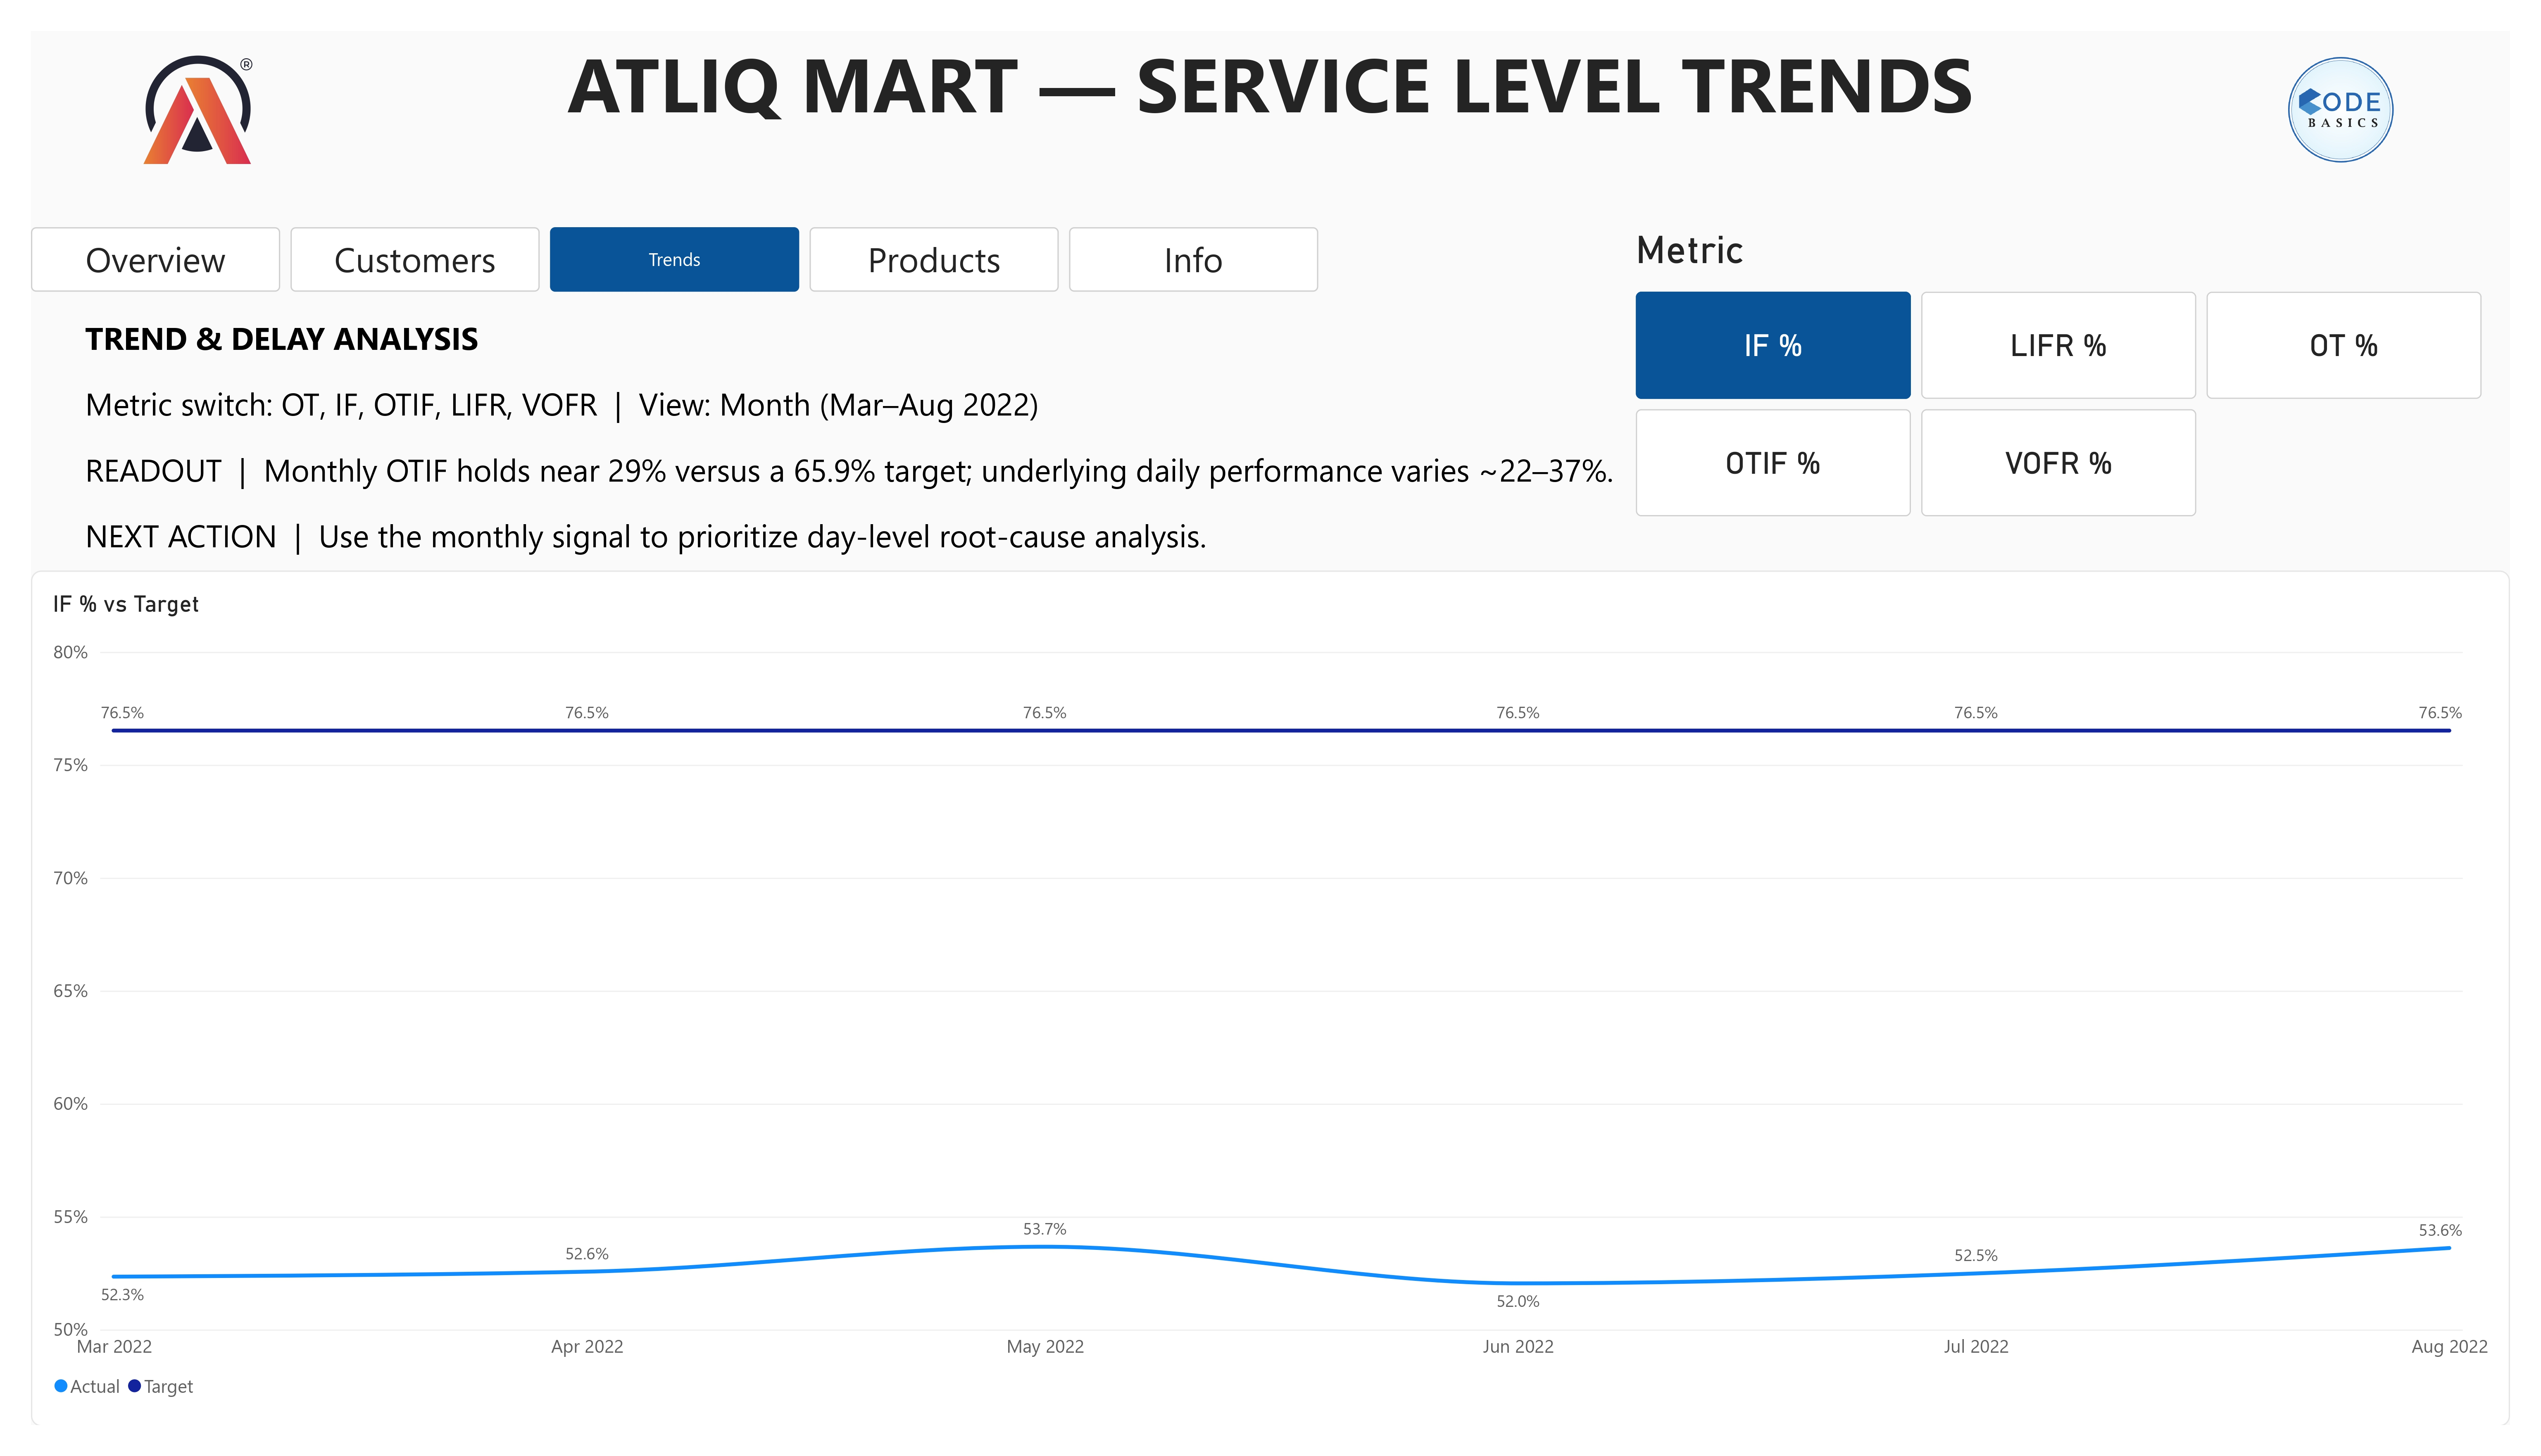

Layout of this report page (visuals, bound fields, positions):
{"tool":"powerbi","page":{"name":"Trends","canvas":[1920,1080],"ordinal":3},"visuals":[{"type":"image","box":[0,16.9,259.7,87],"z":0},{"type":"image","box":[1658.4,16.9,261,88.3],"z":1000},{"type":"textbox","box":[0,0,1920,122.9],"z":2000},{"type":"pageNavigator","box":[0,151.5,1000,50],"z":3000},{"type":"advancedSlicerVisual","fields":{"Values":["Metrics.Metric"]},"box":[1242.7,151.5,654.9,225.3],"z":4000},{"type":"textbox","box":[0,202.2,1231.6,215.5],"z":5000},{"type":"lineChart","fields":{"Category":["dim_date.mmm_yy.Variation.Date Hierarchy.Year","dim_date.week_no","dim_date.date"],"Y":["Measures table.Selected Metric Value","Measures table.Selected Metric Target"]},"box":[0,417.7,1920,662.8],"z":6000}]}

Visuals, with their boxes on the page's 1920x1080 design canvas (x1, y1, x2, y2). These are canvas units, not pixel positions in the 2541x1456 screenshot, which may show the page scaled, cropped or inside an application window:
image: bbox=(0, 17, 260, 104)
image: bbox=(1658, 17, 1919, 105)
textbox: bbox=(0, 0, 1920, 123)
pageNavigator: bbox=(0, 152, 1000, 202)
advancedSlicerVisual - Metrics.Metric: bbox=(1243, 152, 1898, 377)
textbox: bbox=(0, 202, 1232, 418)
lineChart - dim_date.mmm_yy.Variation.Date Hierarchy.Year x dim_date.week_no: bbox=(0, 418, 1920, 1080)
